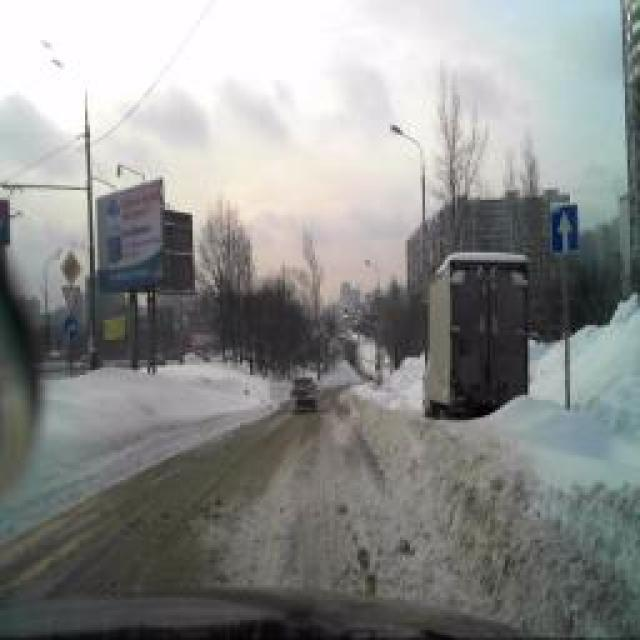sign: (64, 315, 78, 343)
